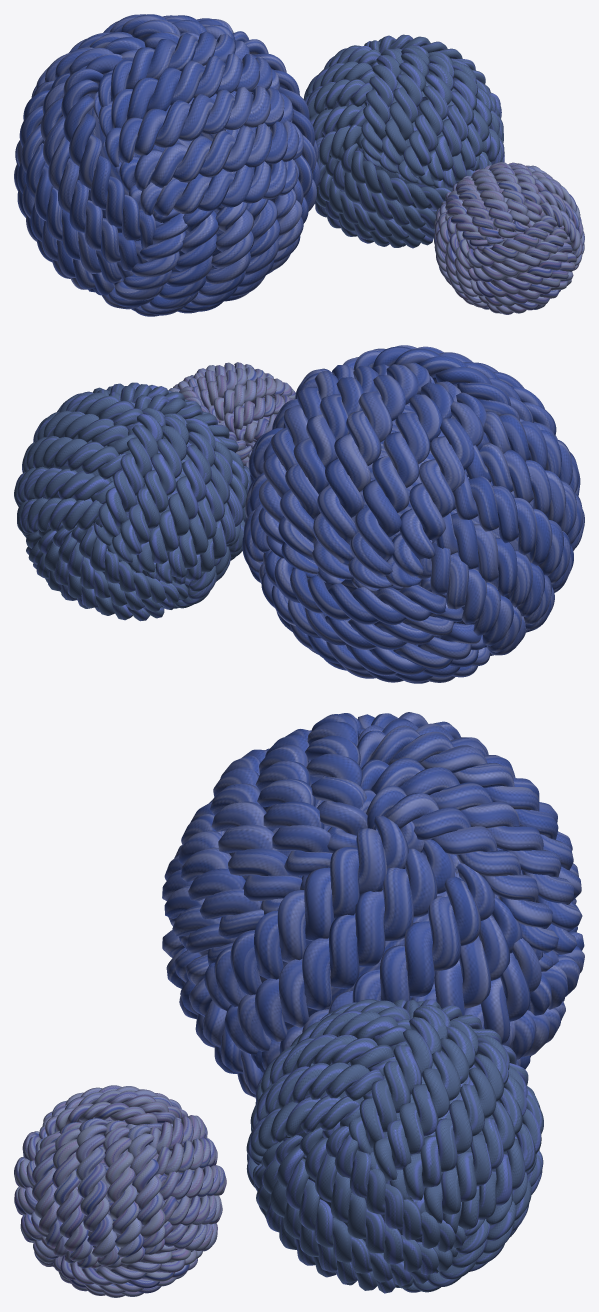
The model's file is FabricBalls.fbx.
3 views of the same model, one above another, from view 1: azimuth 30°, elevation 25°; view 2: azimuth 150°, elevation 25°; view 3: azimuth 270°, elevation 25° (orthographic). The views are drawn at different scales.
Visible parts, largest first — view 1: ball_large, ball_medium, ball_small; view 2: ball_large, ball_medium, ball_small; view 3: ball_large, ball_medium, ball_small.
Boxes of the visible parts, x1,y1,x2,y2 form: ball_large: (14,14,320,316); ball_medium: (303,34,504,248); ball_small: (434,162,584,314); ball_large: (242,345,584,683); ball_medium: (14,382,251,621); ball_small: (169,362,295,467); ball_large: (162,712,584,1097); ball_medium: (246,999,543,1293); ball_small: (14,1085,226,1297).
Size of the model in its own units: 35.43 by 19.99 by 26.84.
